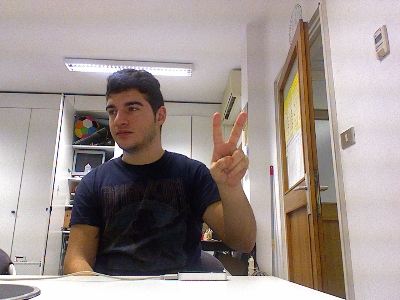剪刀: (208, 111, 249, 187)
